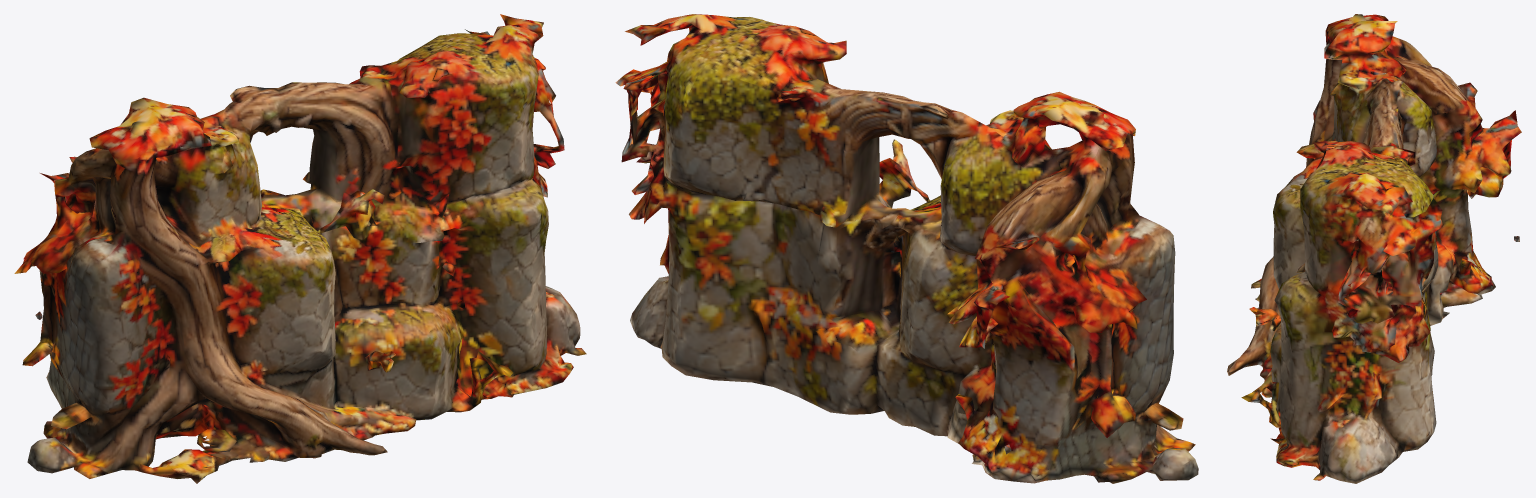
File: FallDecor_FirstRoom_RuinsWall.fbx
The picture shows the model from 3 angles, left to right: view 1: azimuth 30°, elevation 25°; view 2: azimuth 150°, elevation 25°; view 3: azimuth 270°, elevation 25°; orthographic projection. The views are drawn at different scales.
Visible parts, largest first — view 1: FallDecor_FirstRoom_RuinsWall_Mesh; view 2: FallDecor_FirstRoom_RuinsWall_Mesh; view 3: FallDecor_FirstRoom_RuinsWall_Mesh.
Part boxes in pixels (x1,y1,x2,y2): FallDecor_FirstRoom_RuinsWall_Mesh: (14,14,586,483); FallDecor_FirstRoom_RuinsWall_Mesh: (615,14,1198,483); FallDecor_FirstRoom_RuinsWall_Mesh: (1227,14,1521,483).
Bounding box in the file's own units: 6 × 3.5 × 3.2.
1 material, 1 textured.
